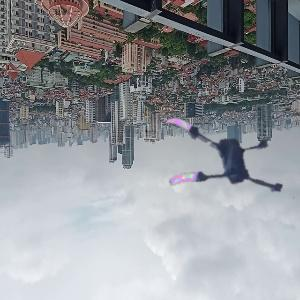drone: (153, 97, 289, 233)
